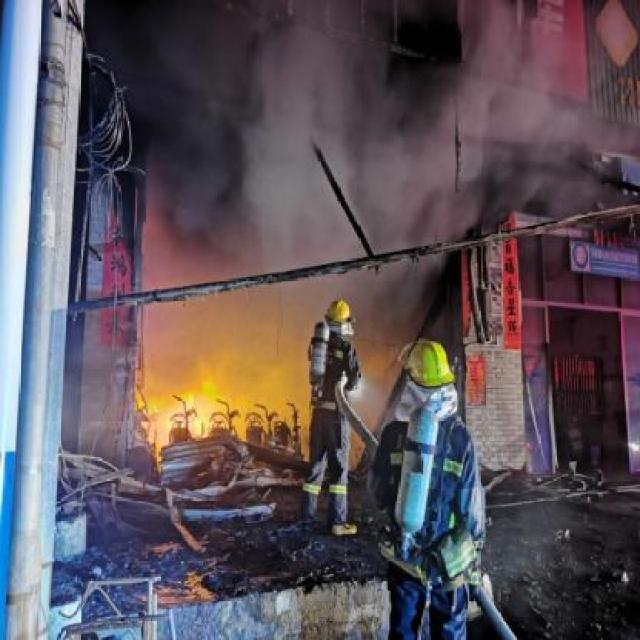Fire: (146, 370, 262, 444)
Smoke: (260, 46, 585, 232), (244, 21, 360, 320)
